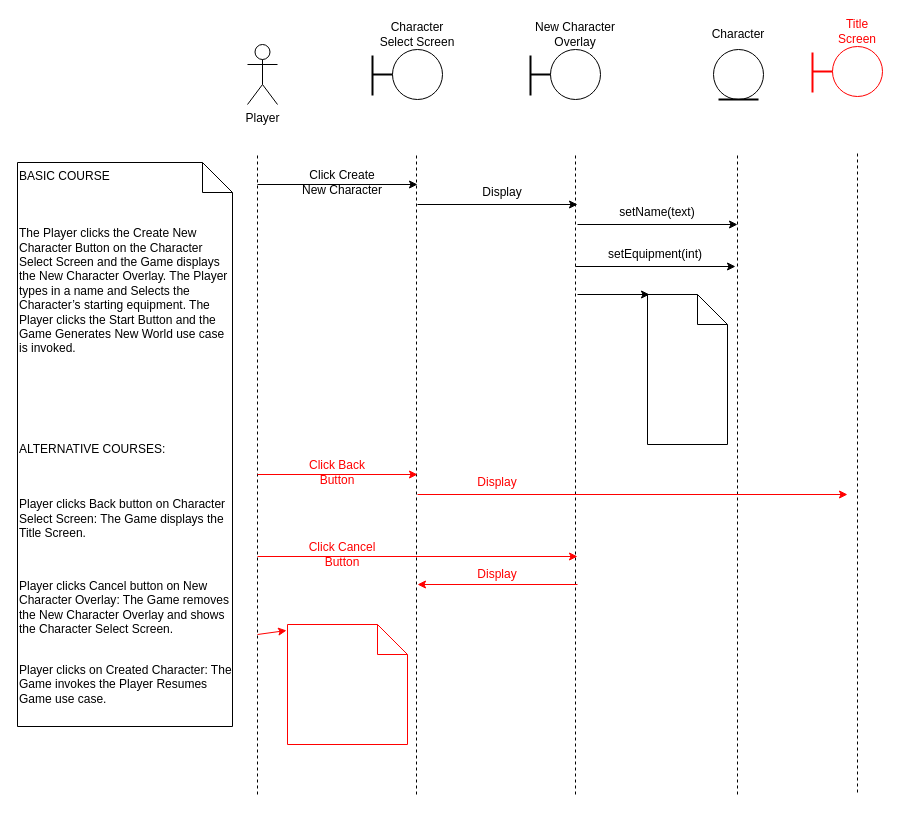
Image size: 900x813. Some labels were removed from this diagram. Here are the shapes that lost their labels. From the top down, the centre of each, then its label:
At point 687,369: "Player clicks Start button and invokes Generate New World Use Case".
At point 347,684: "Player Clicks on Created Character and invokes Resume Game Use Case".
